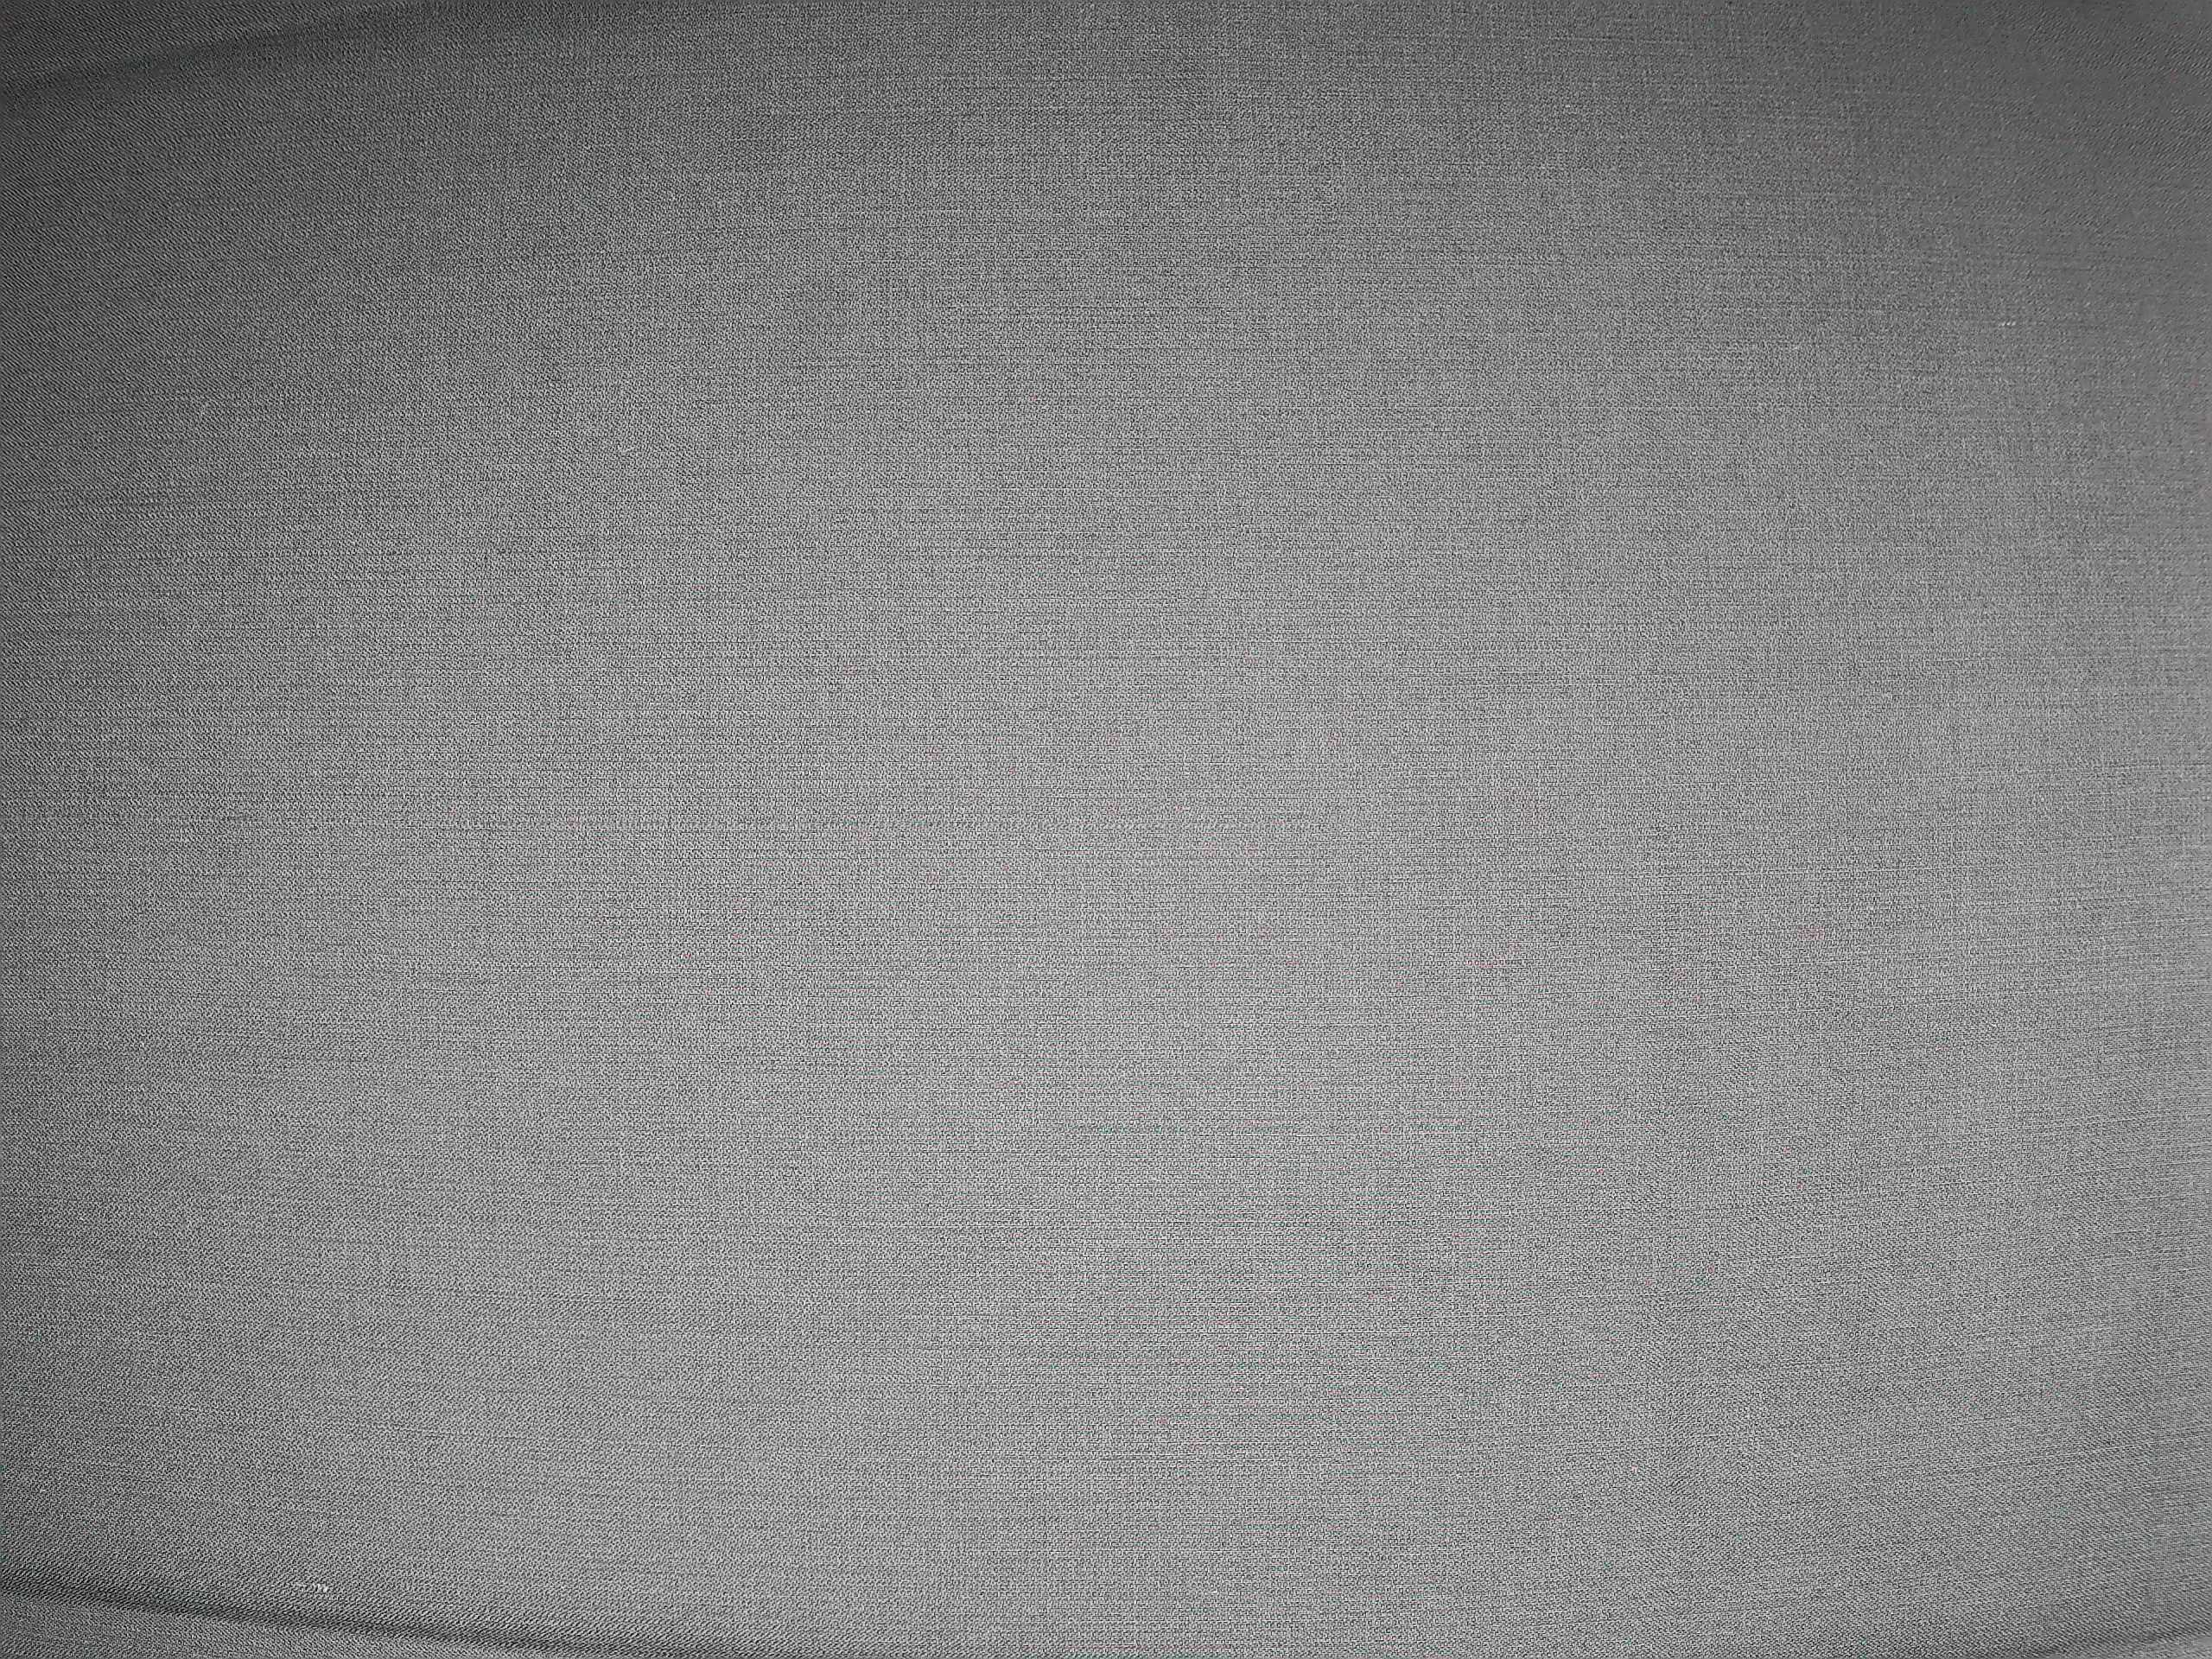thin-spinning: (98, 803, 1339, 842)
